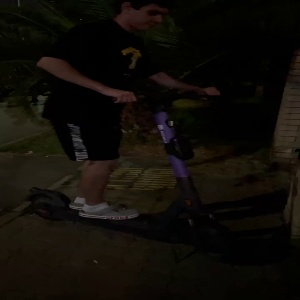human on a scooter: (12, 1, 237, 263)
